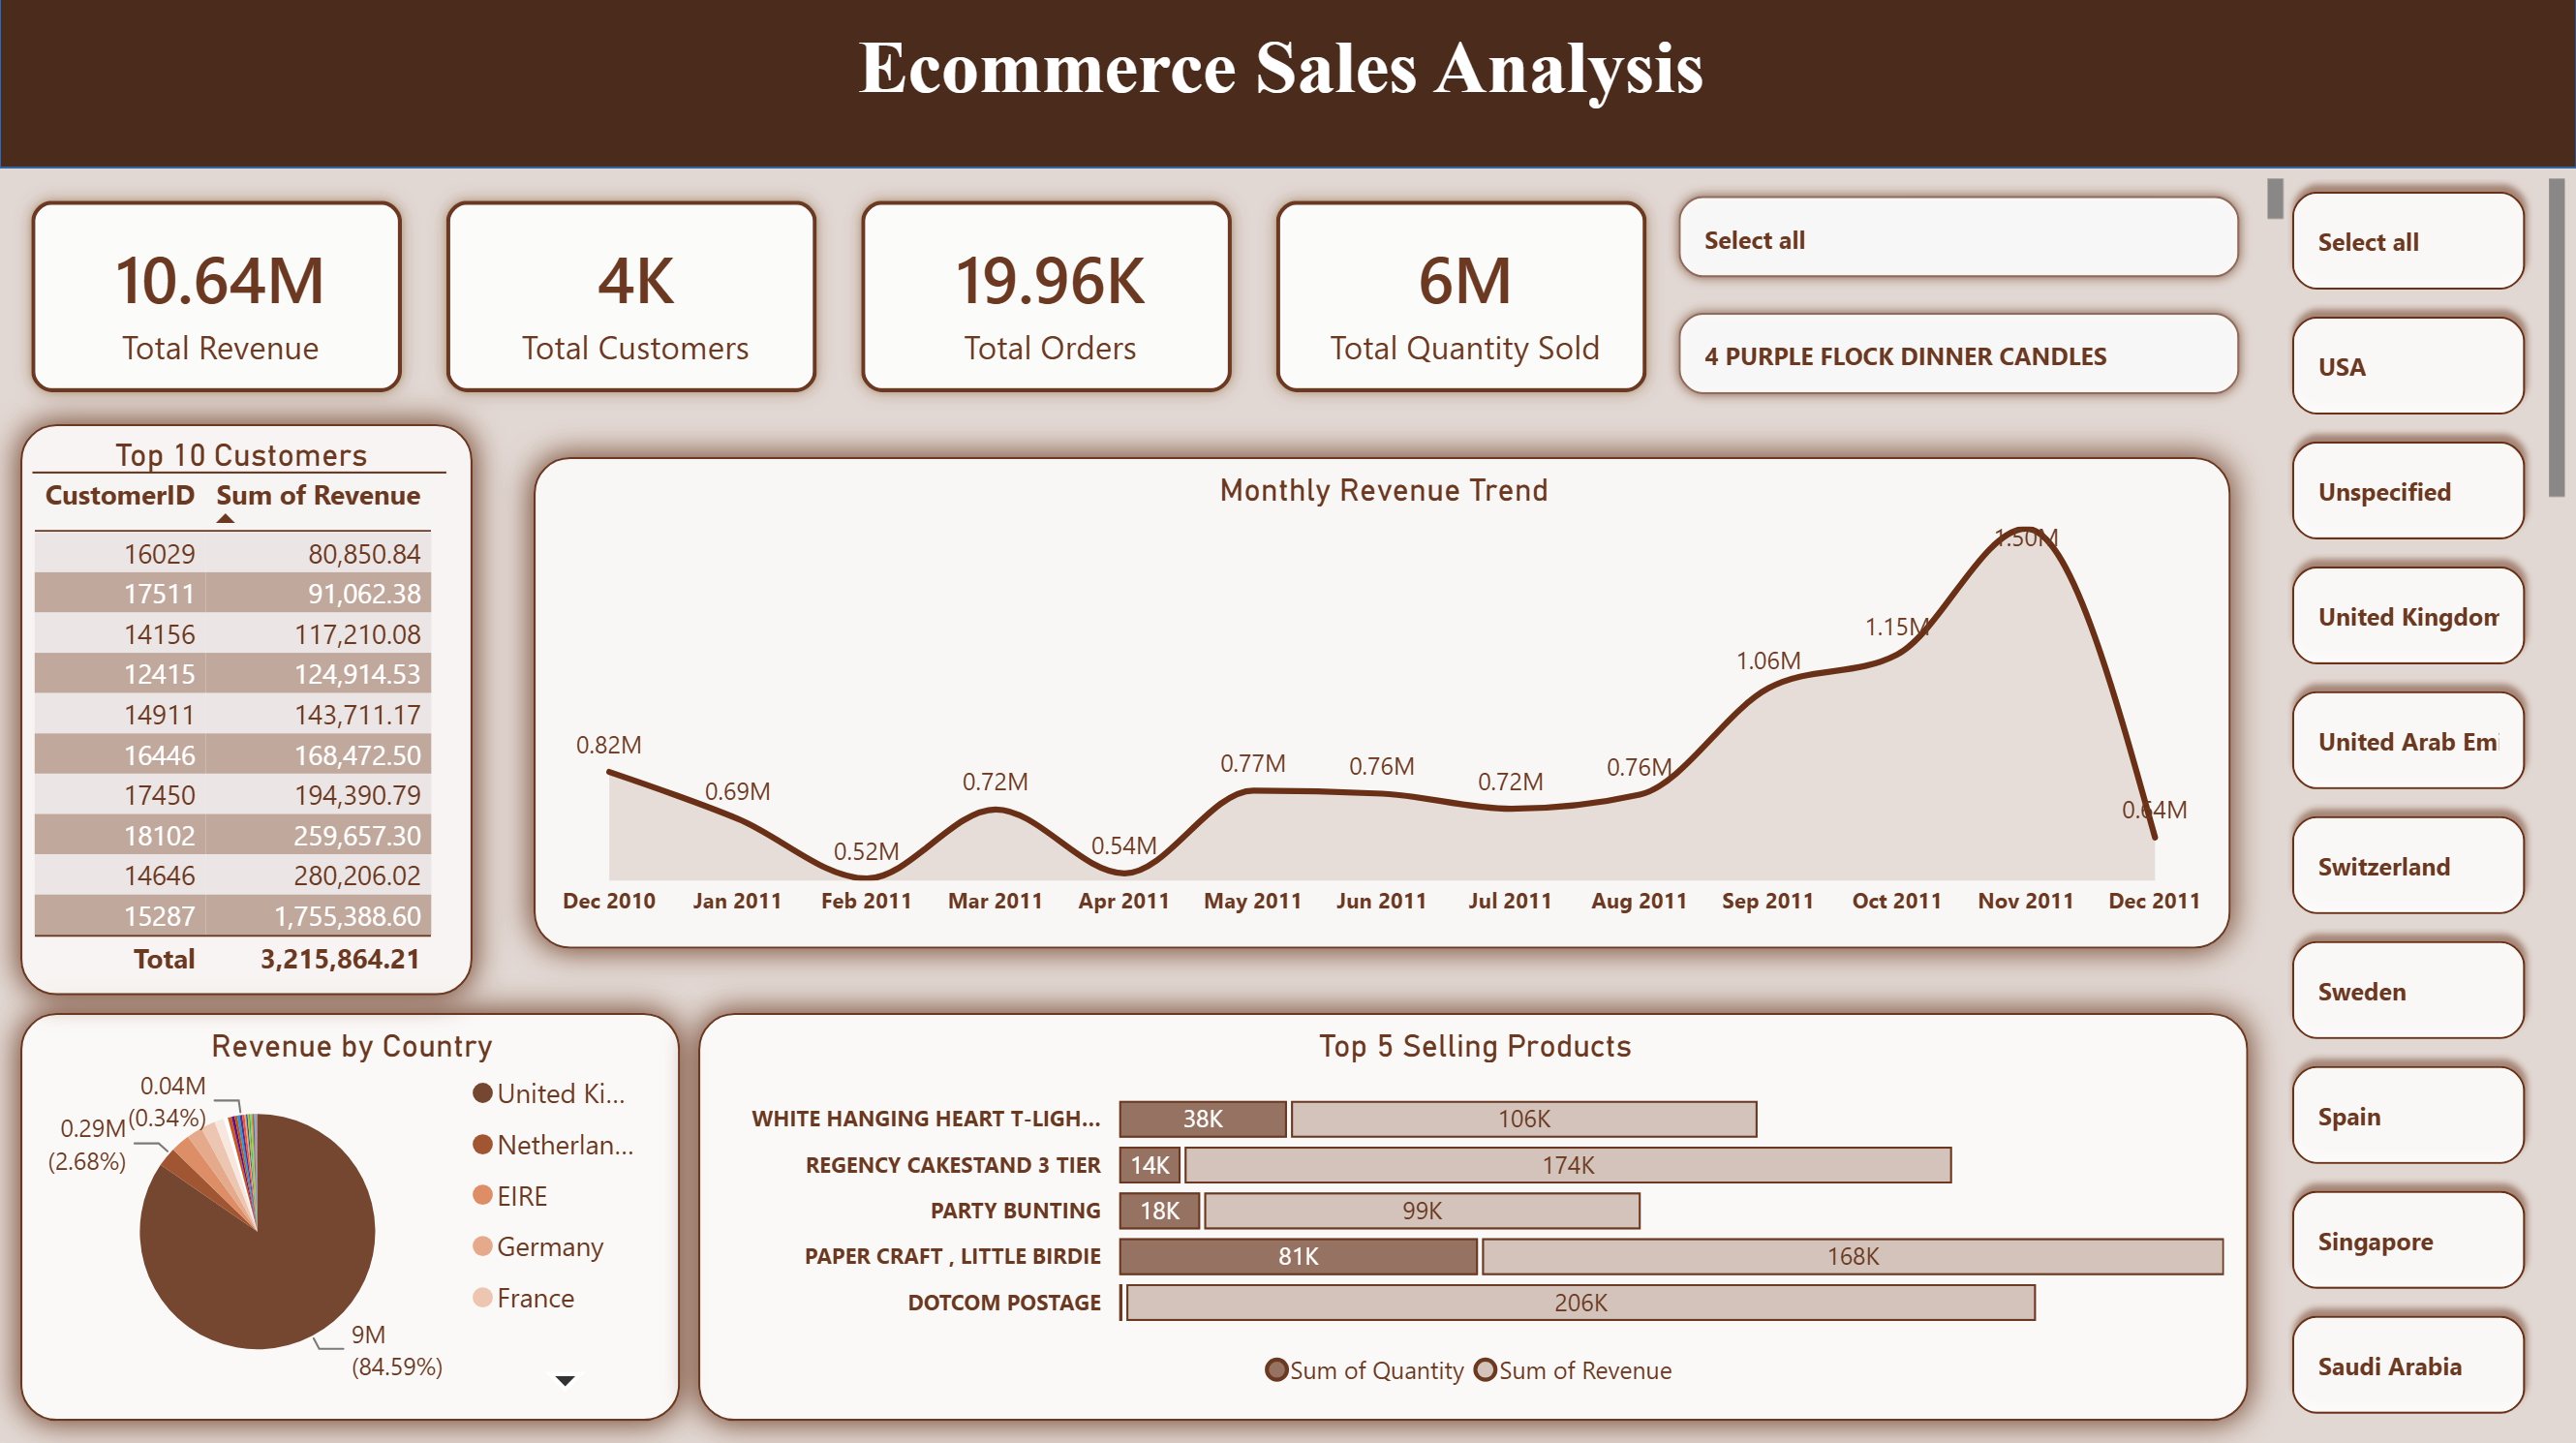

Layout of this report page (visuals, bound fields, positions):
{"tool":"powerbi","page":{"name":"Page 1","canvas":[1280,720],"ordinal":0},"visuals":[{"type":"cardVisual","fields":{"Data":["public ecommerce_sales_analysis.Total Revenue","public ecommerce_sales_analysis.Total Customers","public ecommerce_sales_analysis.Total Orders","public ecommerce_sales_analysis.Total Quantity Sold"]},"box":[0,85.4,836.9,127.6],"z":0},{"type":"shape","box":[0,0,1280,85.6],"z":1000},{"type":"textbox","box":[10,8.2,1253.6,68.2],"z":2000},{"type":"lineChart","title":"Monthly Revenue Trend ","fields":{"Category":["public ecommerce_sales_analysis.Month Year"],"Y":["Sum(public ecommerce_sales_analysis.Revenue)"]},"box":[265,229.2,842.5,244.2],"z":3000},{"type":"pieChart","title":" Revenue by Country","fields":{"Category":["public ecommerce_sales_analysis.Country"],"Y":["Sum(public ecommerce_sales_analysis.Revenue)"]},"box":[10.4,504.6,327.5,202.5],"z":6000},{"type":"barChart","title":"Top 5 Selling Products","fields":{"Category":["public ecommerce_sales_analysis.Description"],"Y":["Sum(public ecommerce_sales_analysis.Quantity)","Sum(public ecommerce_sales_analysis.Revenue)"]},"box":[347.2,504.6,769.6,202.5],"z":7001},{"type":"advancedSlicerVisual","fields":{"Values":["public ecommerce_sales_analysis.Country"]},"box":[1127.2,85.6,152.8,634.2],"z":7002},{"type":"advancedSlicerVisual","fields":{"Values":["public ecommerce_sales_analysis.Description"]},"box":[820.5,85.6,319.4,127.3],"z":7003},{"type":"tableEx","title":"Top 10 Customers","fields":{"Values":["public ecommerce_sales_analysis.CustomerID","Sum(public ecommerce_sales_analysis.Revenue)"]},"box":[10.4,212.9,224.5,283.5],"z":7004}]}

Visuals, with their boxes in screenshot pixels (x1, y1, x2, y2), scaled from the page's 1280x720 canvas onto the 2576x1443 screenshot:
cardVisual - public ecommerce_sales_analysis.Total Revenue x public ecommerce_sales_analysis.Total Customers: x1=0, y1=171, x2=1684, y2=427
shape: x1=0, y1=0, x2=2575, y2=171
textbox: x1=20, y1=16, x2=2543, y2=153
"Monthly Revenue Trend " lineChart: x1=534, y1=459, x2=2229, y2=949
" Revenue by Country" pieChart: x1=21, y1=1011, x2=680, y2=1417
"Top 5 Selling Products" barChart: x1=699, y1=1011, x2=2248, y2=1417
advancedSlicerVisual - public ecommerce_sales_analysis.Country: x1=2268, y1=171, x2=2575, y2=1442
advancedSlicerVisual - public ecommerce_sales_analysis.Description: x1=1651, y1=171, x2=2294, y2=427
"Top 10 Customers" tableEx: x1=21, y1=427, x2=473, y2=995
